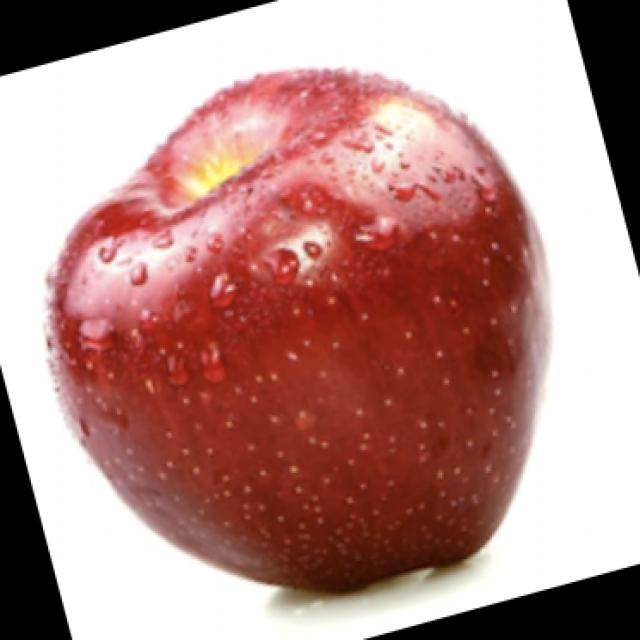Fresh Apple: (51, 71, 536, 602)
